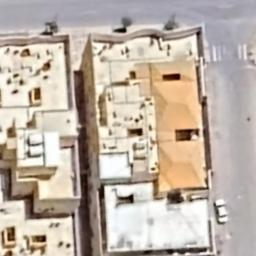sedan: (211, 196, 234, 228)
